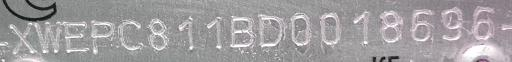letter: (226, 14, 258, 50), (376, 8, 406, 46), (116, 16, 146, 53), (59, 17, 89, 54), (408, 5, 436, 44), (32, 18, 62, 54), (470, 3, 498, 41), (316, 10, 344, 48), (254, 13, 284, 47), (89, 16, 115, 55), (350, 8, 374, 50), (6, 21, 36, 54), (146, 16, 172, 54), (288, 10, 312, 50), (439, 5, 463, 42), (204, 14, 226, 52), (176, 13, 196, 51)
